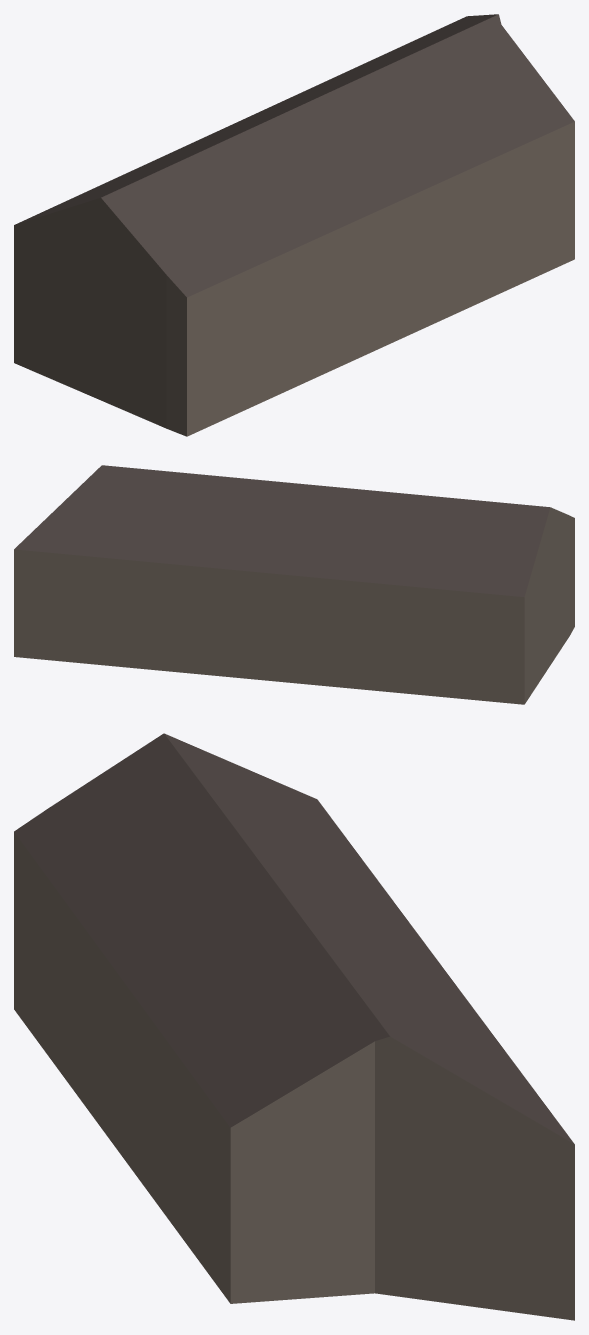
3 renders of one model, top to bottom at view 1: azimuth 30°, elevation 25°; view 2: azimuth 150°, elevation 25°; view 3: azimuth 270°, elevation 25°, orthographic. The views are drawn at different scales.
Parts seen in each view (by area): view 1: HP-w1198840826; view 2: HP-w1198840826; view 3: HP-w1198840826.
Boxes of the visible parts, x1,y1,x2,y2 form: HP-w1198840826: (14,14,574,436); HP-w1198840826: (14,465,574,704); HP-w1198840826: (14,733,574,1320).
Bounding box in the file's own units: 25.21 × 8.82 × 17.32.
